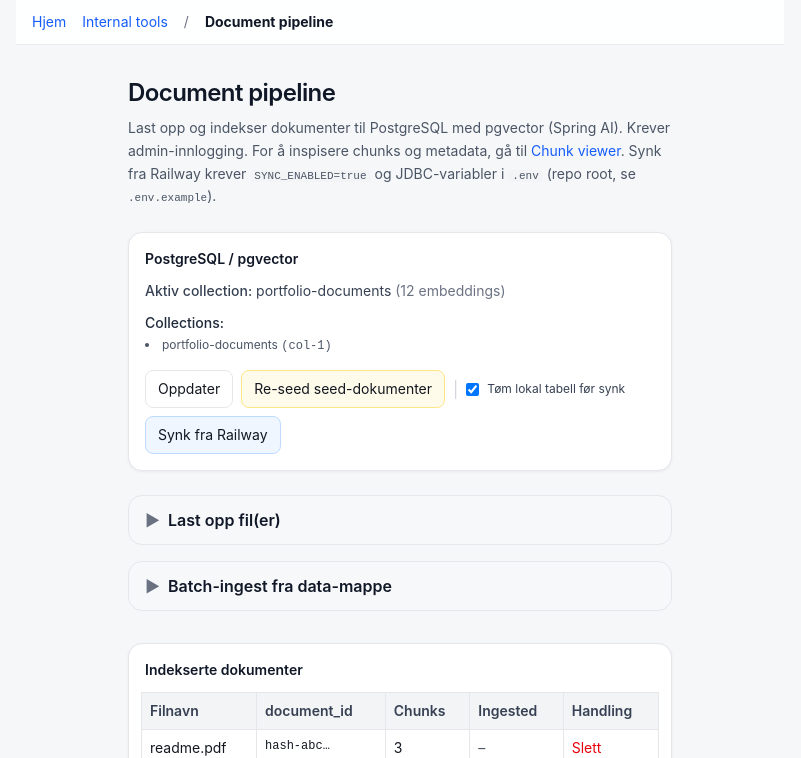
Test: Admin CRUD views (integration-style) › AdminPipelineView sets path ingest error when batch returns 400 with message
Click the heading "▶ Batch-ingest fra data-mappe" at (268, 586), box [145,576,392,596]
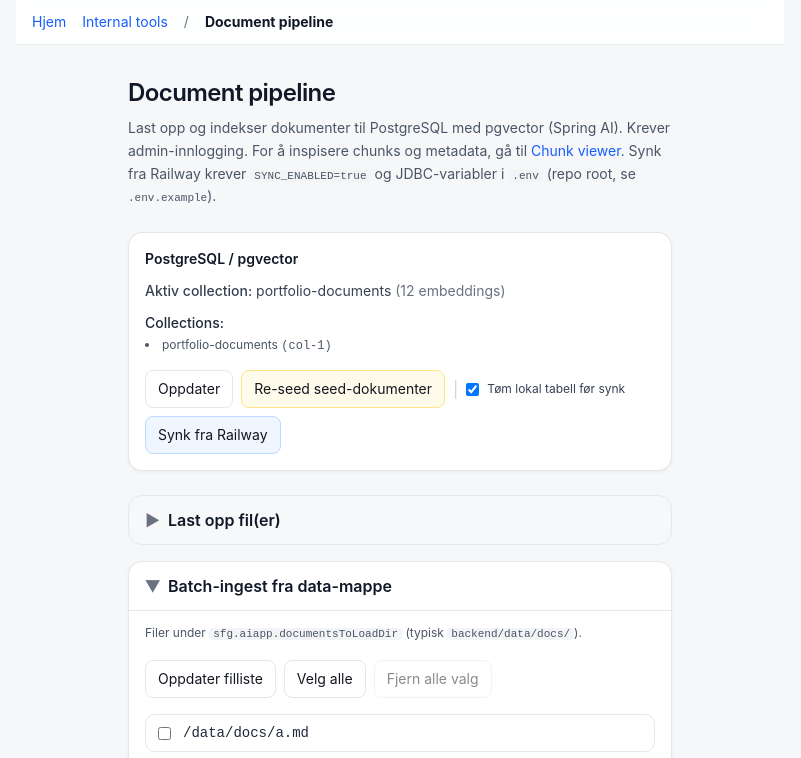
Click the checkbox with id "srv-file-0" at (164, 733), box [158,727,171,740]
(page scrolled)
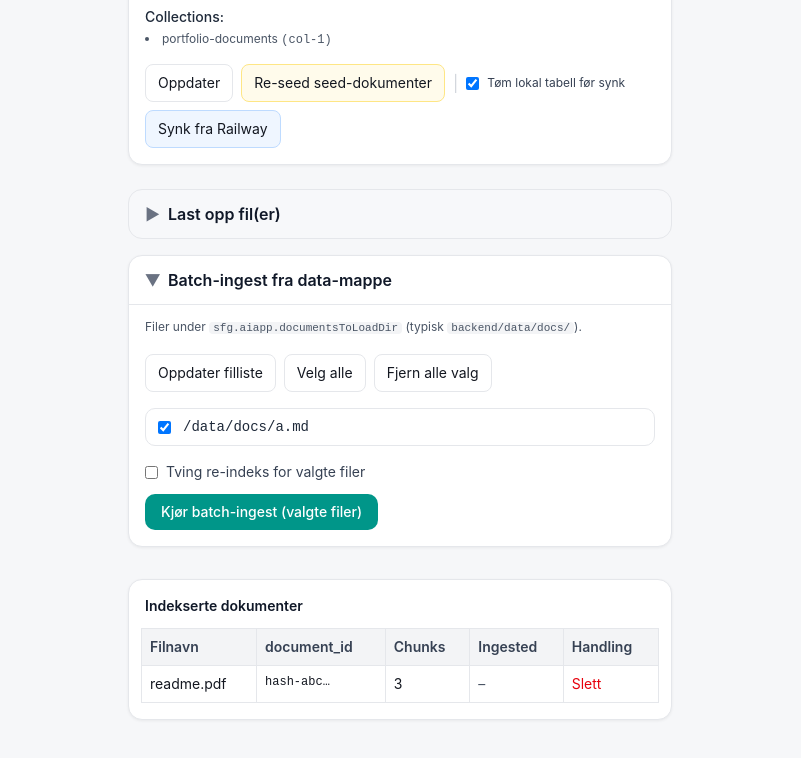
Click the button "Kjør batch-ingest (valgte filer)" at (262, 512), box [145,494,378,530]
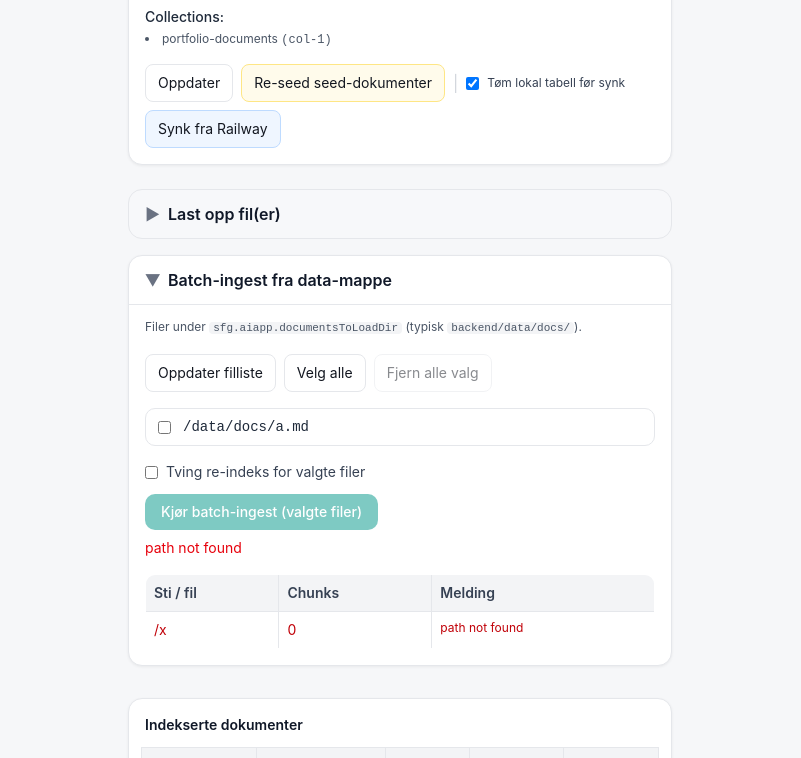
Expected: the text "path not found" is shown, [145,539,242,556]
